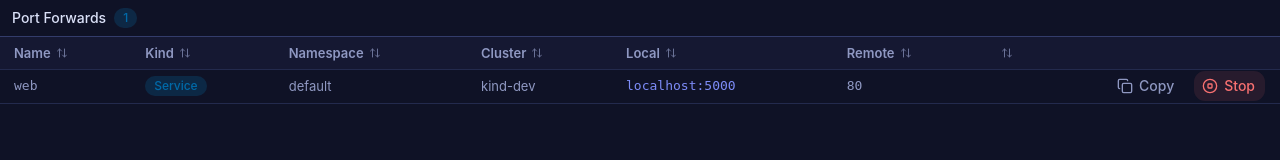
Scenario: PortForwardsView › lists active forwards and can stop one
Expected: the text "web" is shown, [14,78,38,93]
Expected: the text "Service" is shown, [145,76,207,96]
Click the button "Stop" at (1230, 86), box [1193,70,1266,102]
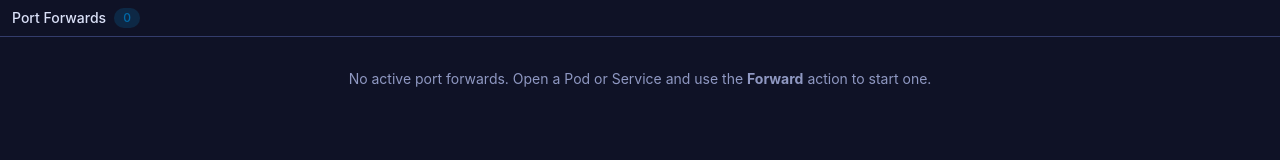
Expected: the text "No active port forwards" is shown, [349,70,747,87]
